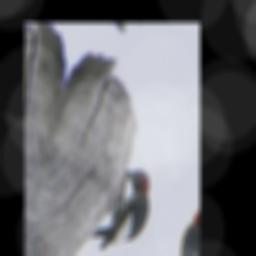Woodpecker: (87, 148, 160, 256)
